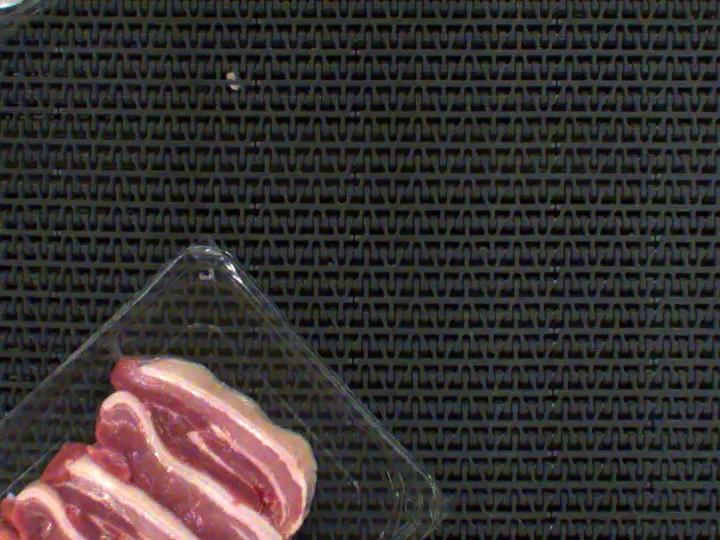packaging-error: (97, 331, 131, 360)
